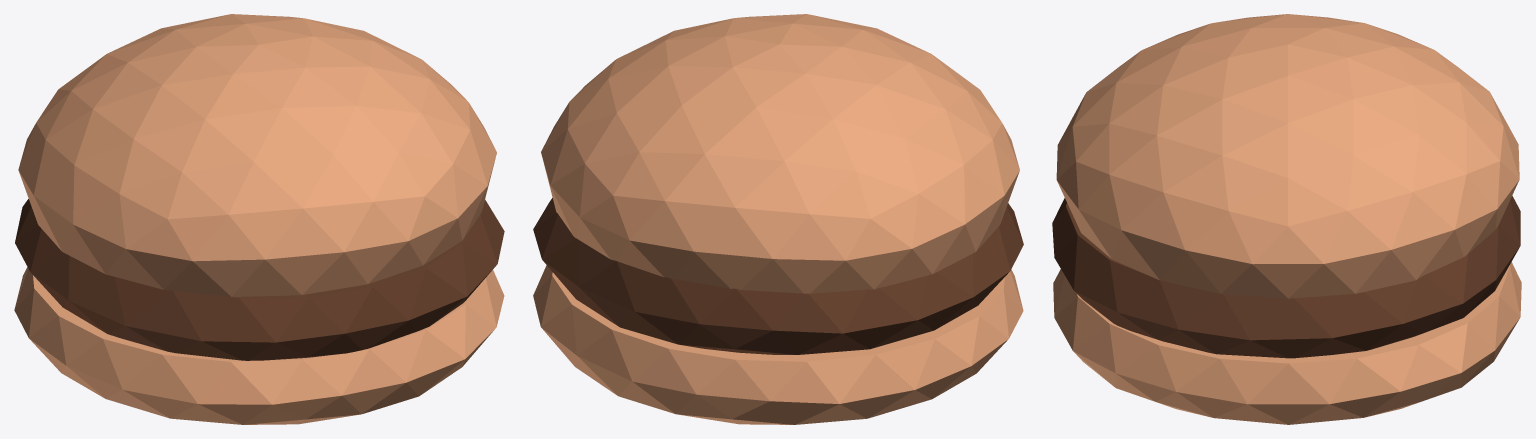
Rendered from hamburger.fbx.
The picture shows the model from 3 angles, left to right: view 1: azimuth 30°, elevation 25°; view 2: azimuth 150°, elevation 25°; view 3: azimuth 270°, elevation 25°; orthographic projection.
Visible parts, largest first — view 1: Bun Top, Bun Bottom, Meat Middle; view 2: Bun Top, Bun Bottom, Meat Middle; view 3: Bun Top, Bun Bottom, Meat Middle.
Boxes of the visible parts, x1=… form: Bun Top: x1=18, y1=14, x2=496, y2=296; Bun Bottom: x1=14, y1=267, x2=504, y2=424; Meat Middle: x1=15, y1=199, x2=504, y2=360; Bun Top: x1=541, y1=14, x2=1019, y2=293; Bun Bottom: x1=533, y1=265, x2=1023, y2=424; Meat Middle: x1=533, y1=198, x2=1023, y2=354; Bun Top: x1=1056, y1=14, x2=1519, y2=298; Bun Bottom: x1=1053, y1=262, x2=1521, y2=424; Meat Middle: x1=1052, y1=195, x2=1520, y2=358.
Size of the model in its own units: 36.3 by 26.82 by 35.22.
